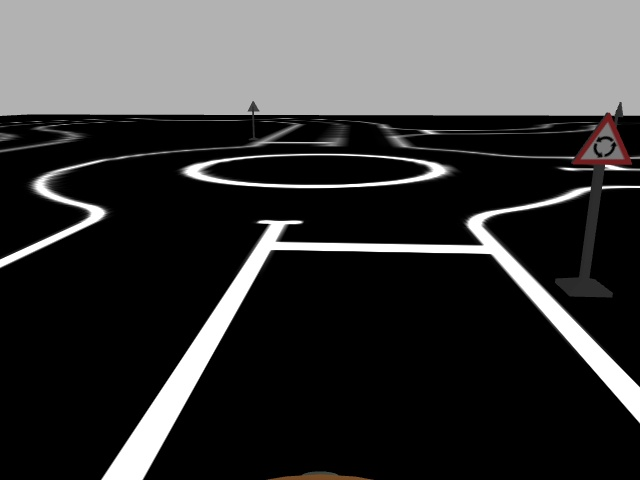roundabout: (570, 111, 633, 164)
